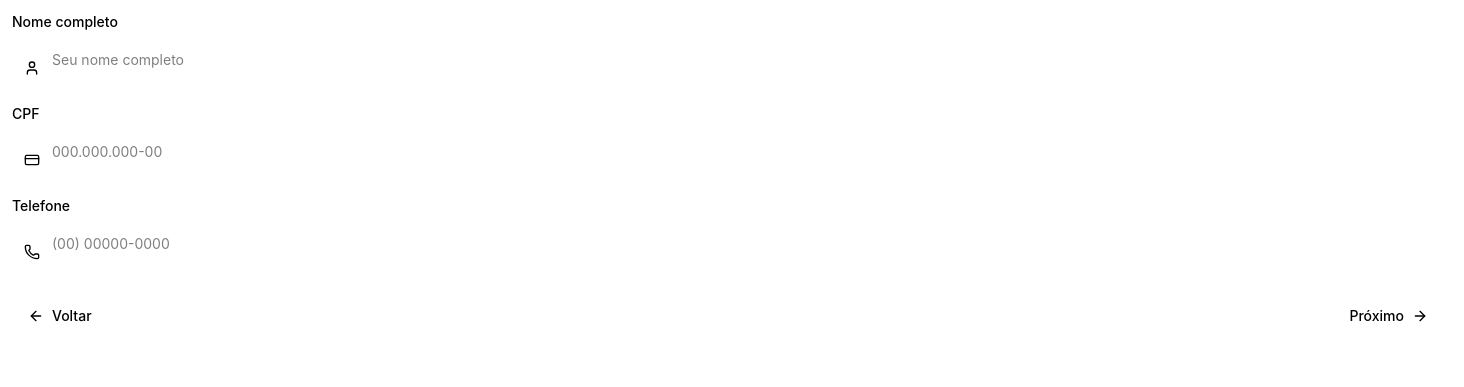
Test case: StepPersonalData › name validation › shows error for name with less than 3 characters
Type "Ab" into the field labelled "Nome completo" at [732, 60], box [12,40,1452,80]
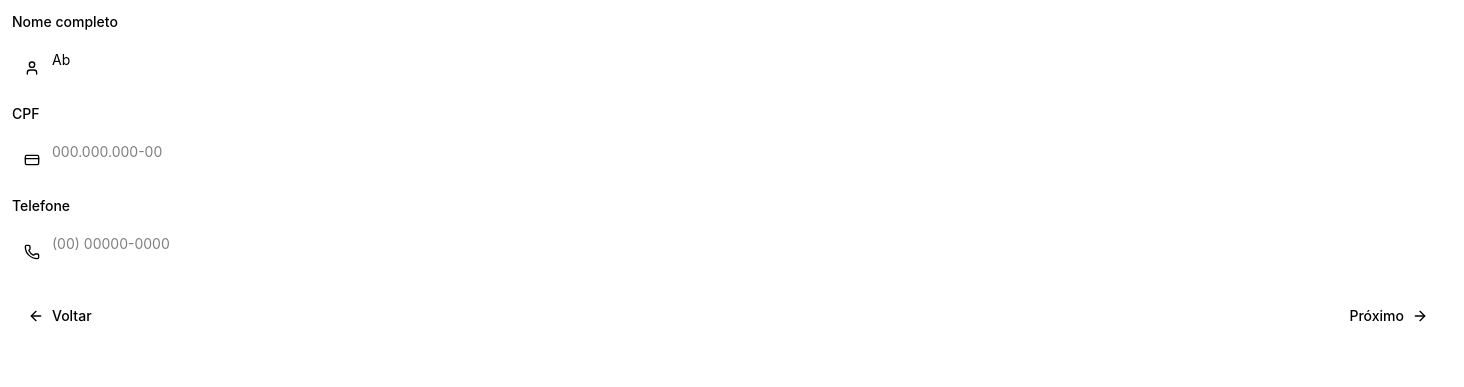
Type "12345678901" into the field labelled "CPF" at [732, 152], box [12,132,1452,172]
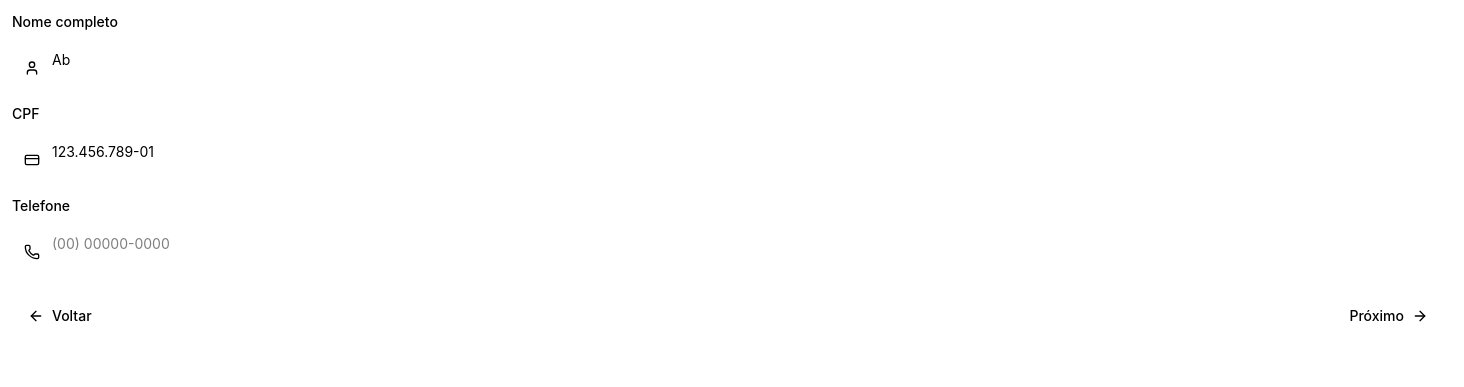
Type "21999887766" into the field labelled "Telefone" at [732, 244], box [12,224,1452,264]
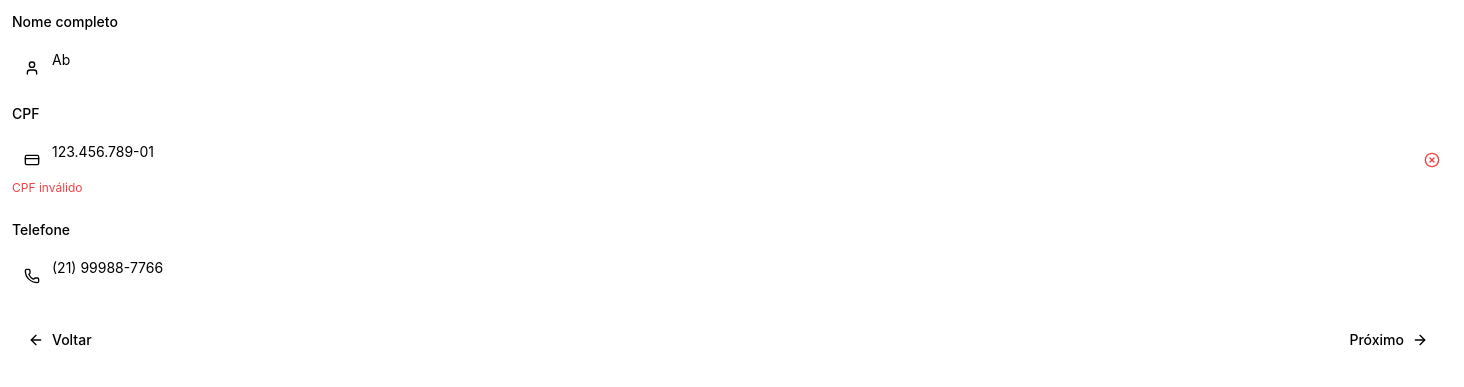
Click the button "Próximo" at [1389, 340], box [1326,320,1452,360]
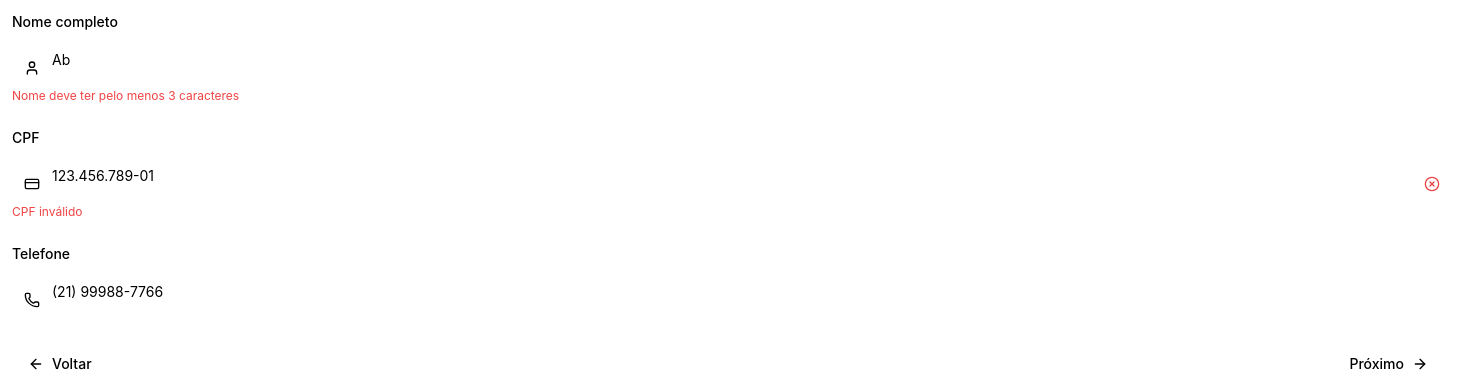
Now the text "Nome deve ter pelo menos 3 caracteres" is shown, box [12,88,239,103]
